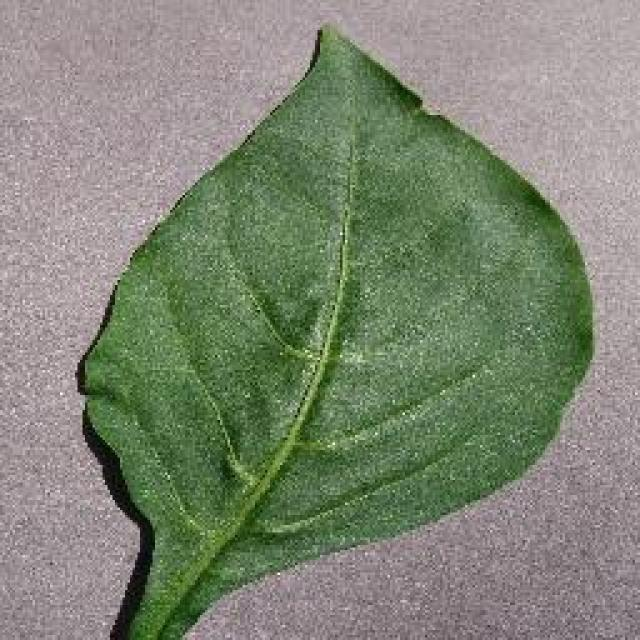Chilli_Healthy: (73, 20, 595, 638)
